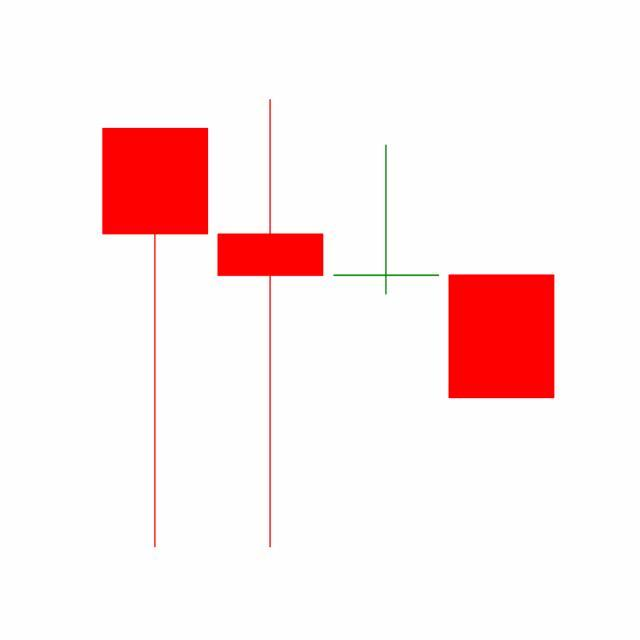Spinning Top: (329, 143, 445, 297)
